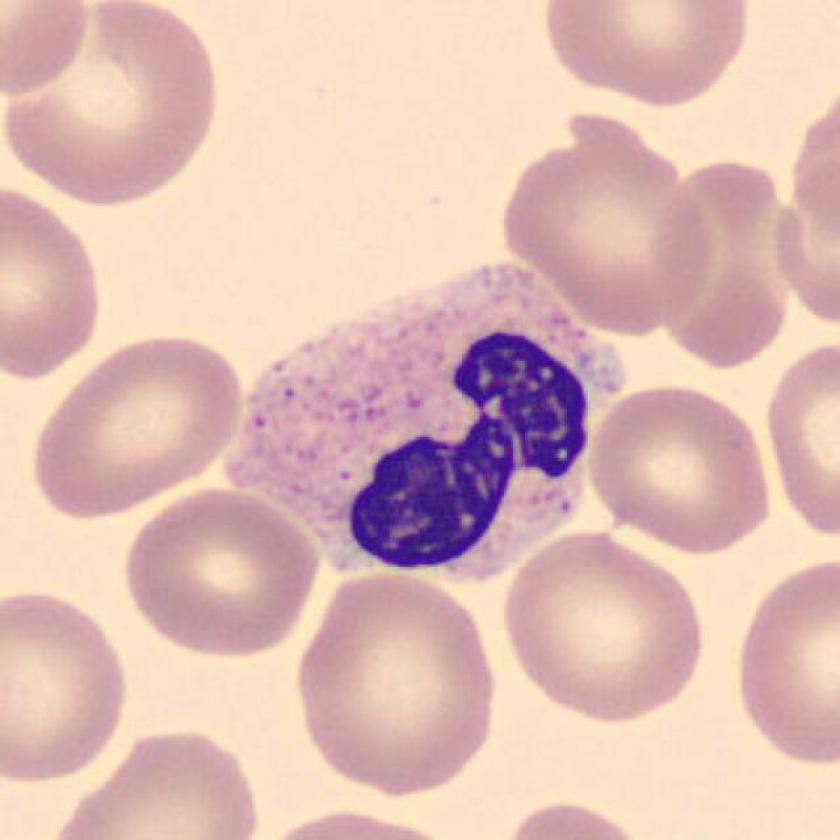neutrophil: (231, 263, 625, 583)
